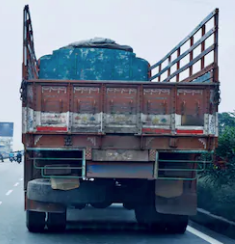truck: (19, 2, 219, 238)
